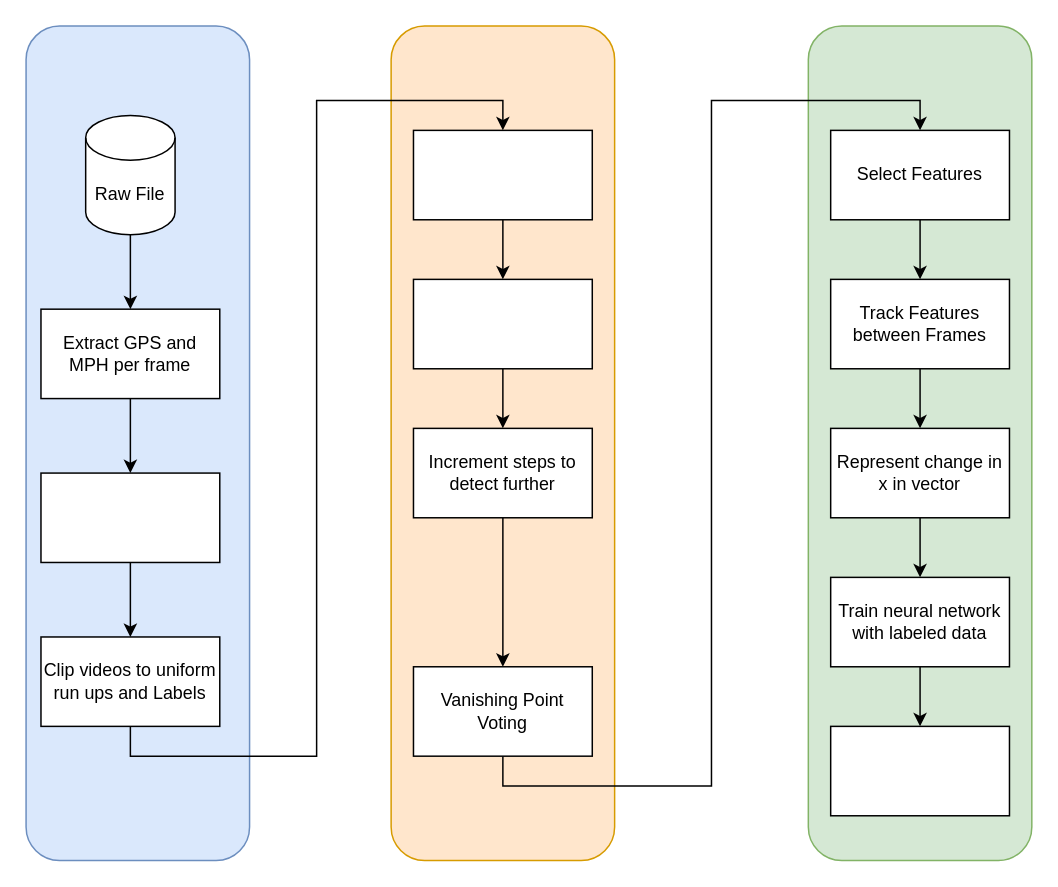
The diagram is 1058 pixels wide and 887 high, and some of its shapes have lost their labels. Each missing label, with the box of its shape:
Camera calibration: (412, 129, 592, 220)
Represent Trajectory: (39, 472, 220, 562)
Short Range Lane Detection: (412, 278, 592, 369)
Test Model: (829, 725, 1009, 816)
